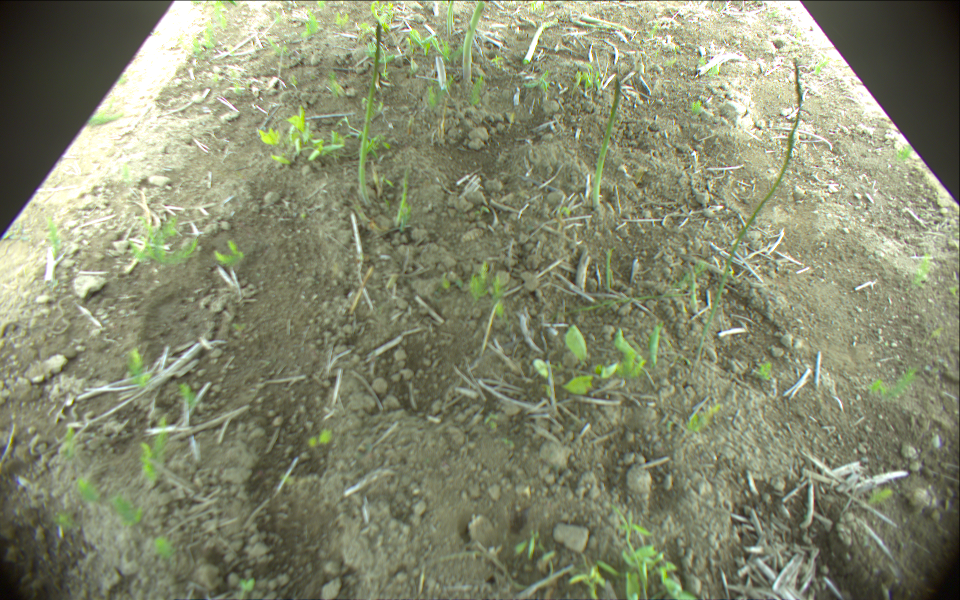aspa: (695, 59, 802, 367), (358, 23, 382, 205), (592, 76, 620, 208), (462, 1, 484, 81), (523, 21, 558, 64), (577, 14, 629, 34), (446, 1, 455, 33)
